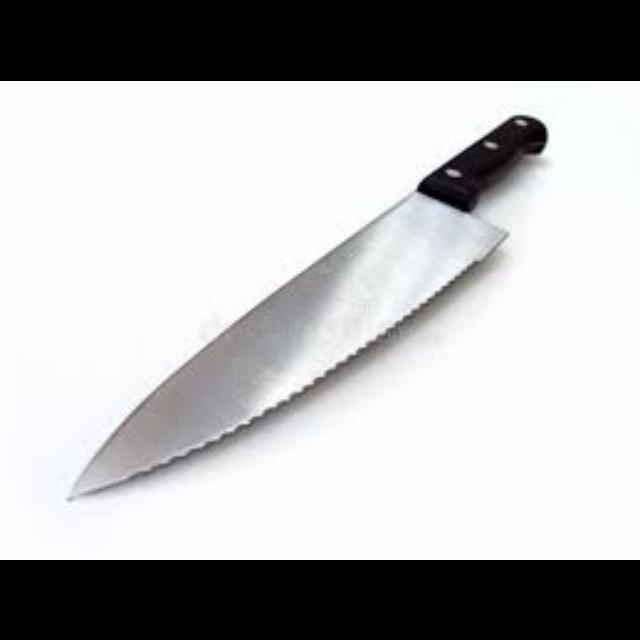knife: (64, 110, 548, 500)
